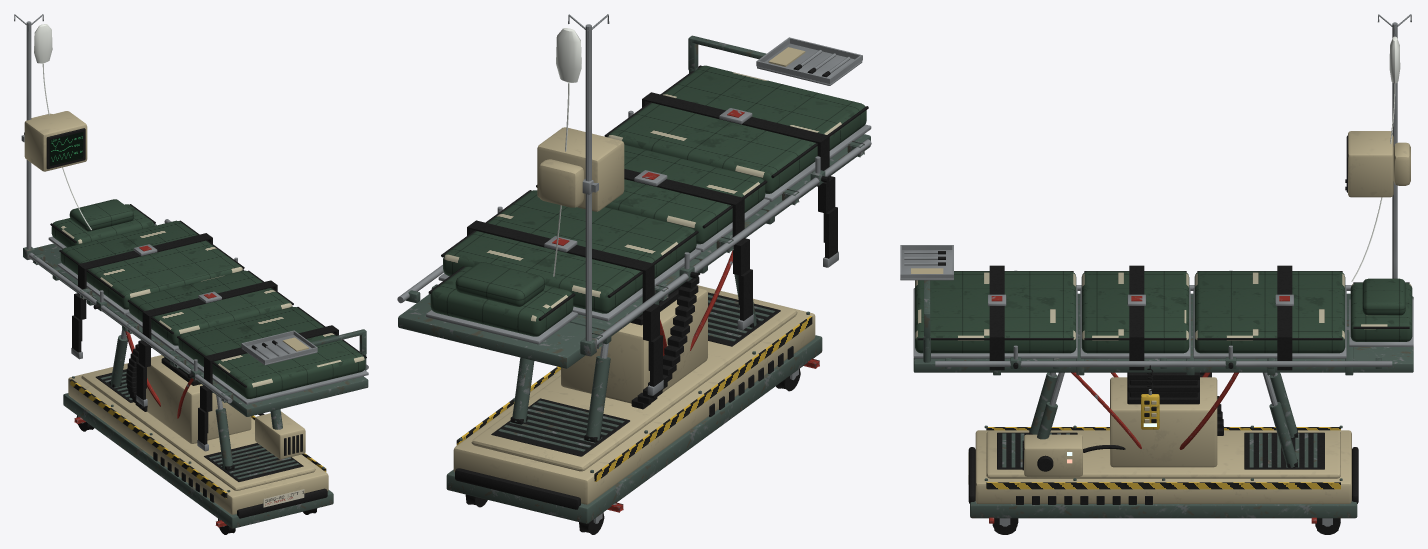
File: SurgeryTableV2.fbx
3 views of the same model, side by side, from view 1: azimuth 30°, elevation 25°; view 2: azimuth 150°, elevation 25°; view 3: azimuth 270°, elevation 25° (orthographic). The views are drawn at different scales.
Visible parts, largest first — view 1: BST_Base, BST_Pad_Legs, BST_Pad_Back, BST_Pad_Seat, BST_Column, BST_Frame, BST_Pad_Head, BST_Monitor, BST_Tray, BST_Rails, BST_PowerUnit, BST_Pistons (+11 smaller); view 2: BST_Base, BST_Pad_Legs, BST_Pad_Back, BST_Pad_Head, BST_Pad_Seat, BST_Frame, BST_Column, BST_Monitor, BST_Tray, BST_Rails, BST_BaseHazard, BST_Pistons (+11 smaller); view 3: BST_Base, BST_Pad_Legs, BST_Pad_Back, BST_Column, BST_Pad_Seat, BST_Frame, BST_Pad_Head, BST_Monitor, BST_BaseHazard, BST_Rails, BST_Pistons, BST_PowerUnit (+9 smaller).
Part boxes in pixels (x1,y1,x2,y2): BST_Base: (63, 355, 333, 528); BST_Pad_Legs: (175, 307, 368, 404); BST_Pad_Back: (57, 220, 244, 314); BST_Pad_Seat: (125, 270, 293, 351); BST_Column: (146, 356, 251, 443); BST_Frame: (31, 224, 368, 416); BST_Pad_Head: (48, 199, 155, 249); BST_Monitor: (21, 111, 87, 171); BST_Tray: (241, 329, 366, 370); BST_Rails: (29, 219, 368, 403); BST_PowerUnit: (255, 411, 305, 459); BST_Pistons: (109, 329, 282, 470); BST_Base: (446, 285, 822, 523); BST_Pad_Legs: (604, 65, 871, 201); BST_Pad_Back: (438, 190, 700, 321); BST_Pad_Head: (426, 262, 577, 344); BST_Pad_Seat: (536, 144, 769, 251); BST_Frame: (398, 134, 870, 368); BST_Column: (561, 286, 707, 403); BST_Monitor: (537, 127, 624, 211); BST_Tray: (688, 35, 862, 85); BST_Rails: (397, 110, 871, 348); BST_BaseHazard: (456, 316, 812, 481); BST_Pistons: (510, 262, 758, 442); BST_Base: (968, 425, 1358, 518); BST_Pad_Legs: (913, 271, 1077, 358); BST_Pad_Back: (1193, 271, 1346, 358); BST_Column: (1110, 372, 1217, 467); BST_Pad_Seat: (1080, 271, 1190, 358); BST_Frame: (913, 293, 1413, 375); BST_Pad_Head: (1349, 278, 1413, 346); BST_Monitor: (1345, 131, 1410, 197); BST_BaseHazard: (986, 427, 1340, 489); BST_Rails: (935, 270, 1392, 368); BST_Pistons: (1029, 372, 1298, 467); BST_PowerUnit: (1022, 434, 1125, 476).
Size of the model in its own units: 0.7513 by 1.86 by 1.91.
